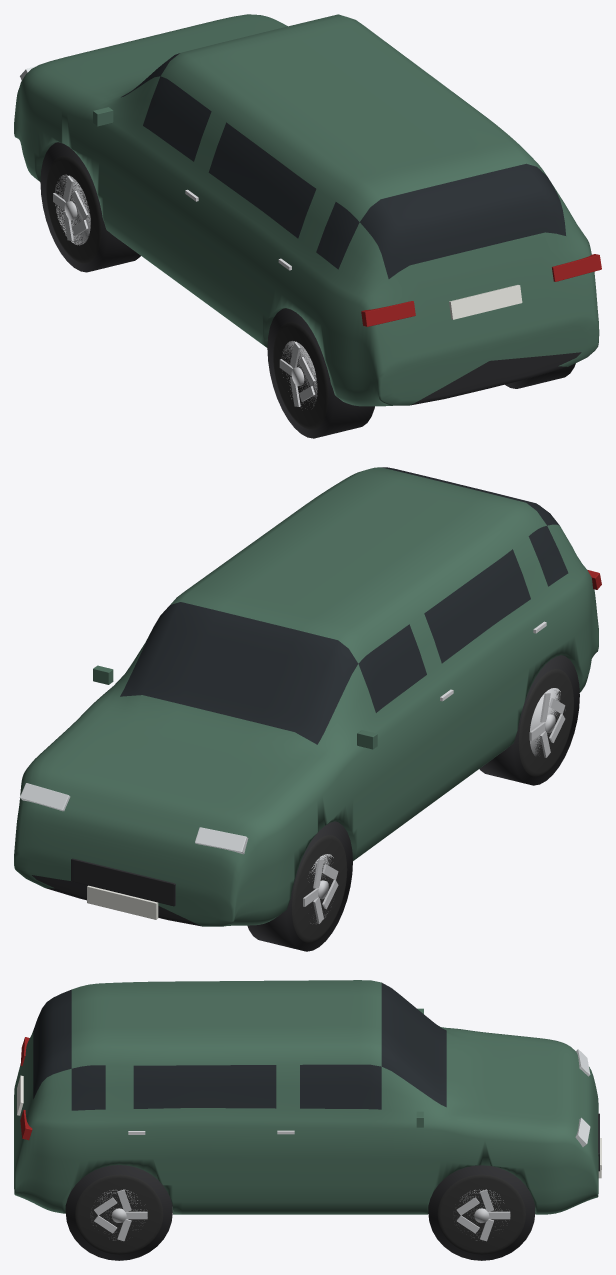
File: car_suv_green.glb
The picture shows the model from 3 angles, top to bottom: view 1: azimuth 30°, elevation 25°; view 2: azimuth 150°, elevation 25°; view 3: azimuth 270°, elevation 25°; orthographic projection. The views are drawn at different scales.
Visible parts, largest first — view 1: car_suv_green; view 2: car_suv_green; view 3: car_suv_green.
Boxes of the visible parts, box(x1,y1,x2,y2) form: car_suv_green: box(14, 14, 601, 438); car_suv_green: box(14, 467, 601, 951); car_suv_green: box(14, 980, 601, 1260).
Size of the model in its own units: 2.1 by 1.81 by 4.78.
